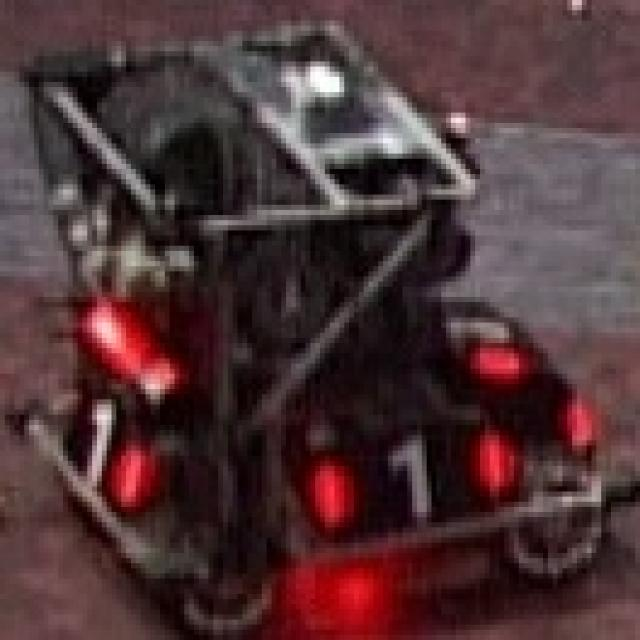R1: (296, 412, 509, 530), (44, 384, 160, 497), (419, 287, 536, 384)
